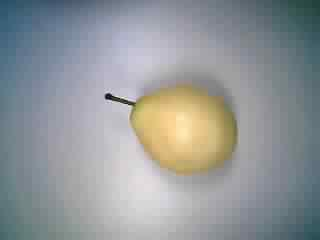pear: (98, 74, 255, 181)
